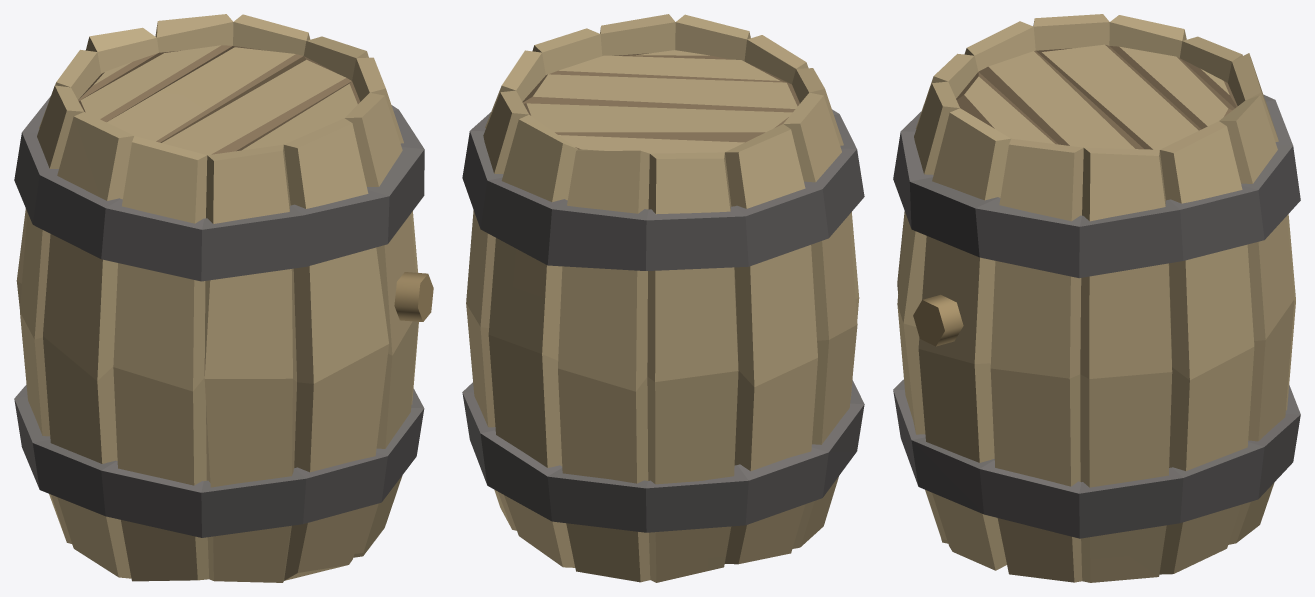
File: obj_tw_p_prop_barrel_01_c130a2.glb
3 views of the same model, side by side, from view 1: azimuth 30°, elevation 25°; view 2: azimuth 150°, elevation 25°; view 3: azimuth 270°, elevation 25° (orthographic).
Visible parts, largest first — view 1: obj_tw_p_prop_barrel_01_c130a2; view 2: obj_tw_p_prop_barrel_01_c130a2; view 3: obj_tw_p_prop_barrel_01_c130a2.
Boxes of the visible parts, x1,y1,x2,y2 form: obj_tw_p_prop_barrel_01_c130a2: [14, 14, 433, 582]; obj_tw_p_prop_barrel_01_c130a2: [462, 14, 864, 582]; obj_tw_p_prop_barrel_01_c130a2: [893, 14, 1300, 582].
Size of the model in its own units: 0.2071 by 0.25 by 0.2071.
1 material, 1 textured.
